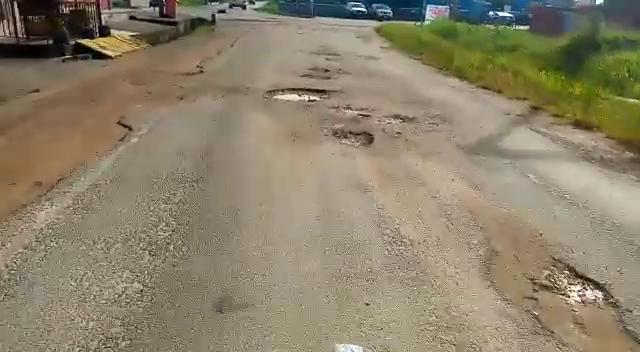pothole: (527, 259, 640, 352), (263, 85, 338, 103), (331, 129, 376, 149), (332, 106, 375, 121), (375, 115, 418, 127)
